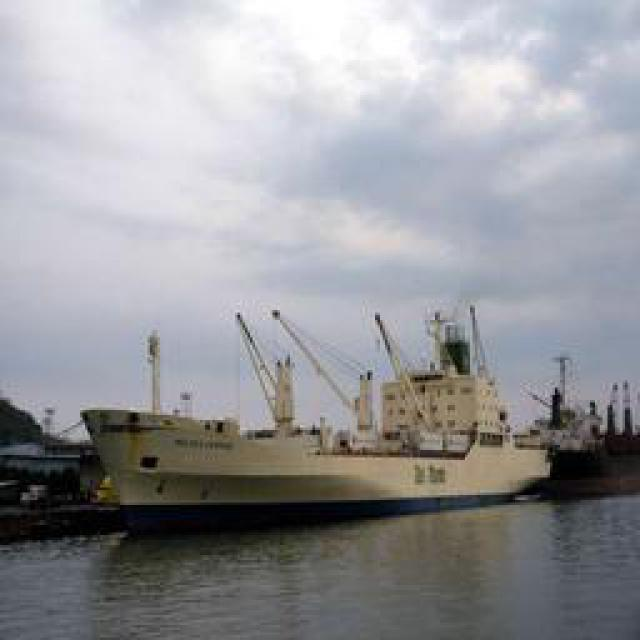Ship: (83, 294, 561, 529)
